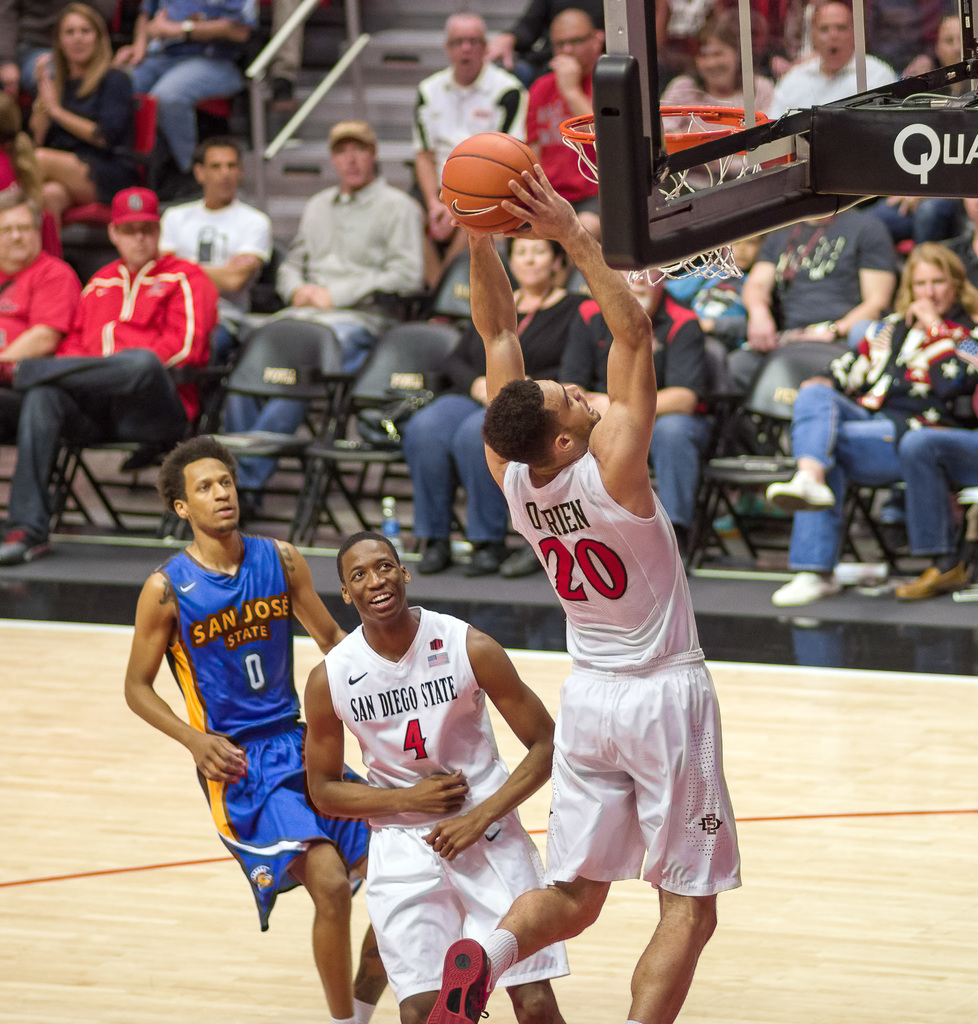Ball: (438, 129, 534, 236)
